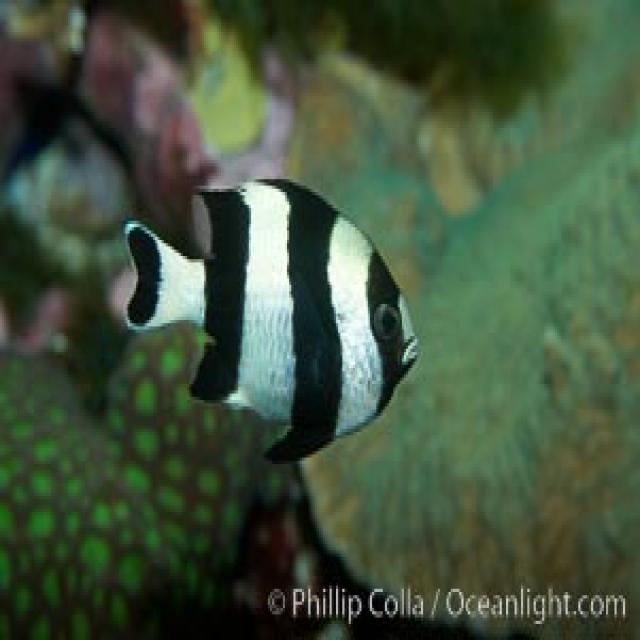ThreeStripedDamselfish: (125, 179, 421, 467)
